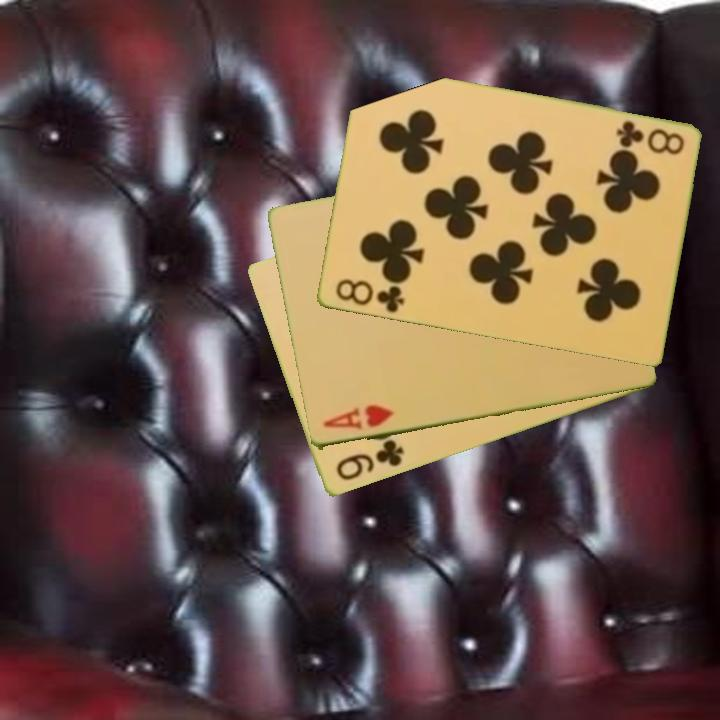8c: (332, 275, 407, 316), (612, 117, 687, 158)
9c: (332, 436, 407, 484)
Ah: (319, 401, 397, 433)
